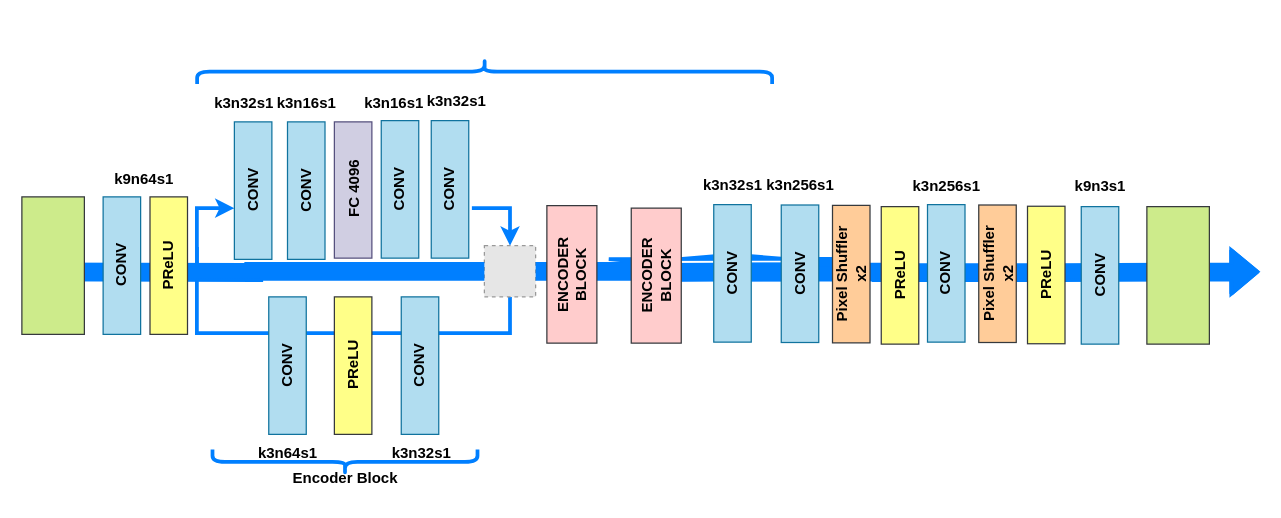
Some shapes in this 1281 by 518 pixel diagram are drawn without their labels. Grey dashed boxes stand in for pictures. The box of each missing label's shape, as (x1, y1, x2, y2) in pixels:
INPUT IMAGE: (21, 196, 84, 334)
N Encoder Blocks: (195, 57, 773, 85)
OUTPUT IMAGE: (1146, 205, 1209, 344)
